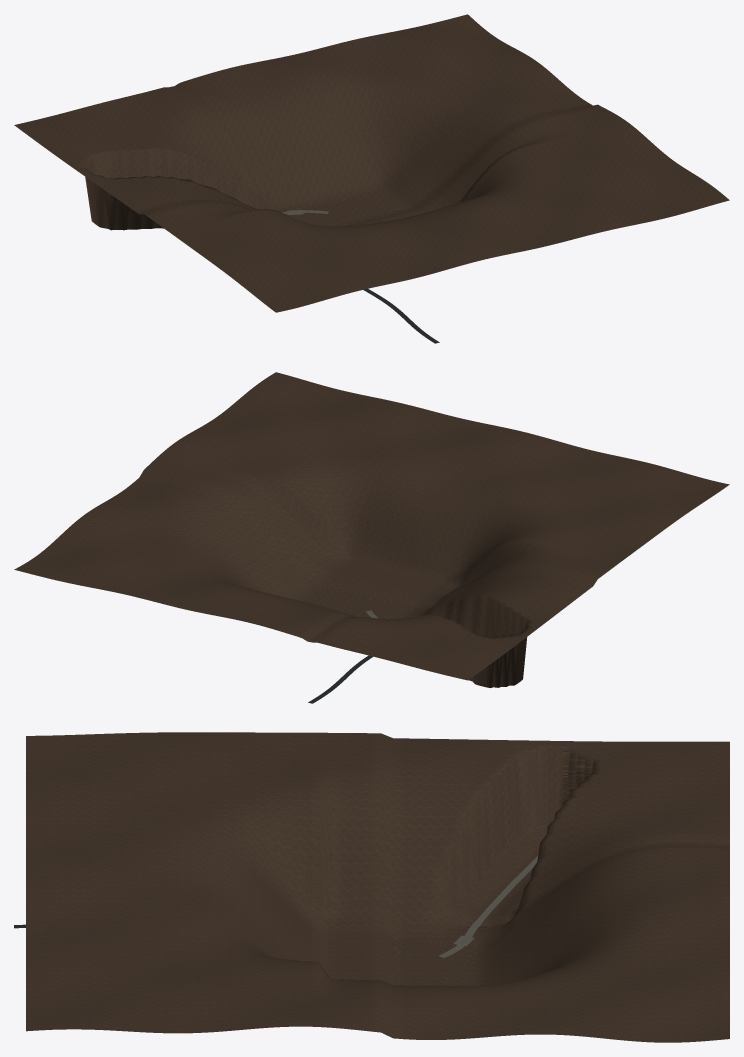
Rendered from hollow_terrain.glb.
3 views of the same model, one above another, from view 1: azimuth 30°, elevation 25°; view 2: azimuth 150°, elevation 25°; view 3: azimuth 270°, elevation 25° (orthographic). The views are drawn at different scales.
Visible parts, largest first — view 1: hollow_terrain; view 2: hollow_terrain; view 3: hollow_terrain.
Part boxes in pixels (left/top/right/bottom): hollow_terrain: left=14, top=14, right=729, bottom=343; hollow_terrain: left=14, top=372, right=729, bottom=703; hollow_terrain: left=14, top=732, right=729, bottom=1042.
Size of the model in its own units: 295 by 43.93 by 300.
4 materials, 2 textured.
